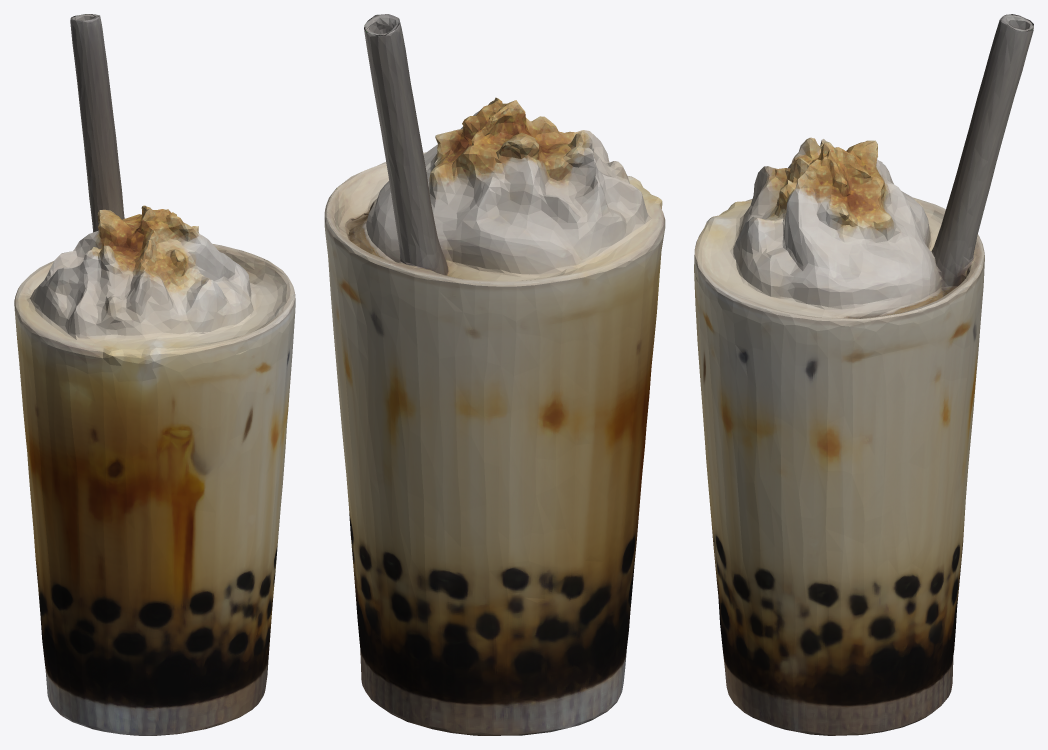
Rendered from bubble-tea.glb.
3 views of the same model, side by side, from view 1: azimuth 30°, elevation 25°; view 2: azimuth 150°, elevation 25°; view 3: azimuth 270°, elevation 25° (orthographic). The views are drawn at different scales.
Parts seen in each view (by area): view 1: world; view 2: world; view 3: world.
Boxes of the visible parts, left/top/right/bottom form: world: left=14, top=14, right=295, bottom=735; world: left=324, top=14, right=665, bottom=735; world: left=694, top=14, right=1033, bottom=735.
Size of the model in its own units: 0.4261 by 0.9986 by 0.4568.
Materials: 1 (1 with a texture image).
